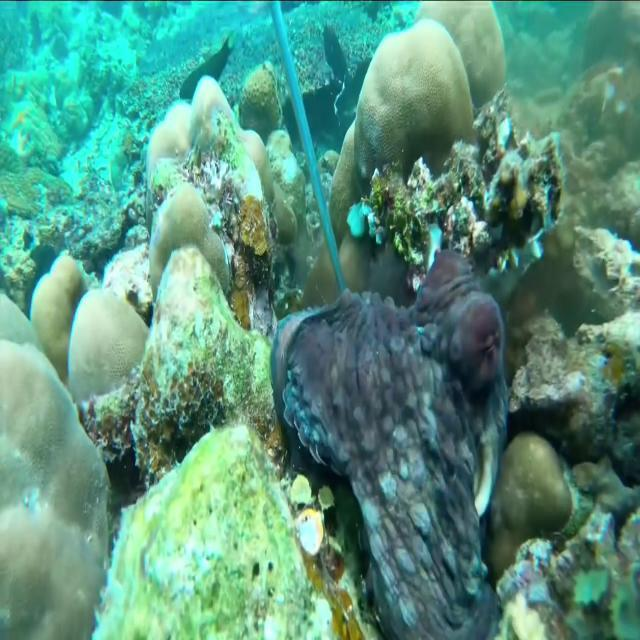octopus: (259, 249, 509, 640)
